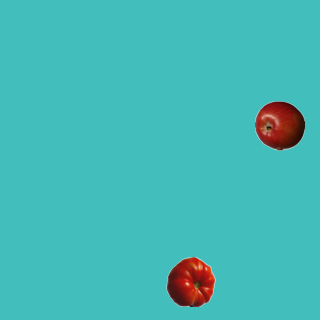Apple Braeburn: (254, 100, 304, 150)
Tomato 3: (165, 256, 215, 306)
